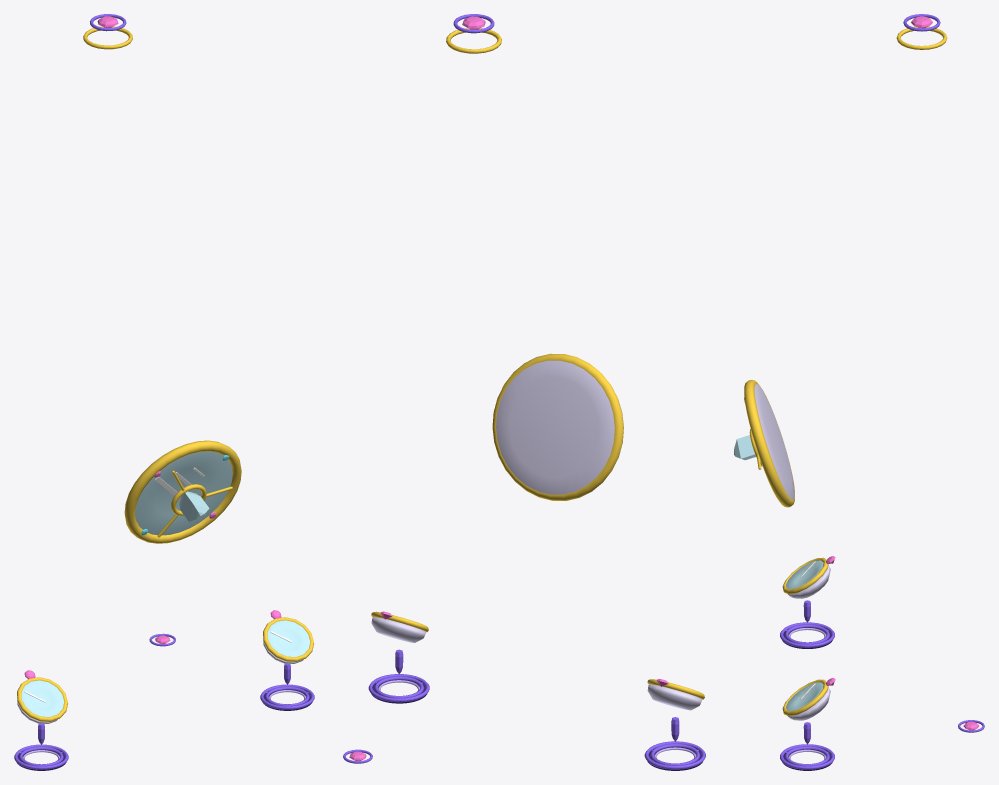
Rendered from SunMirrorTower_T4_Upgrades.fbx.
3 renders of one model, left to right at view 1: azimuth 30°, elevation 25°; view 2: azimuth 150°, elevation 25°; view 3: azimuth 270°, elevation 25°, orthographic. The views are drawn at different scales.
Visible parts, largest first — view 1: SunMirrorTowerT4U1PolishedMirror, SunMirrorTowerT4U3Tracker2, SunMirrorTowerT4U3Tracker1, SunMirrorTowerT4U5RainbowLens, SunMirrorTowerT4U5RainbowLensGlow; view 2: SunMirrorTowerT4U1PolishedMirror, SunMirrorTowerT4U3Tracker2, SunMirrorTowerT4U3Tracker1; view 3: SunMirrorTowerT4U1PolishedMirror, SunMirrorTowerT4U3Tracker2, SunMirrorTowerT4U3Tracker1, SunMirrorTowerT4U2Beacon1Glow.
Boxes of the visible parts, box(x1,y1,x2,y2) form: SunMirrorTowerT4U1PolishedMirror: box(124, 440, 241, 543); SunMirrorTowerT4U3Tracker2: box(260, 617, 314, 710); SunMirrorTowerT4U3Tracker1: box(14, 677, 68, 770); SunMirrorTowerT4U5RainbowLens: box(157, 470, 232, 537); SunMirrorTowerT4U5RainbowLensGlow: box(179, 491, 209, 521); SunMirrorTowerT4U1PolishedMirror: box(492, 353, 623, 500); SunMirrorTowerT4U3Tracker2: box(368, 611, 429, 703); SunMirrorTowerT4U3Tracker1: box(644, 679, 705, 770); SunMirrorTowerT4U1PolishedMirror: box(744, 380, 794, 507); SunMirrorTowerT4U3Tracker2: box(780, 679, 834, 770); SunMirrorTowerT4U3Tracker1: box(780, 557, 834, 648); SunMirrorTowerT4U2Beacon1Glow: box(903, 14, 940, 31).
Bounding box in the file's own units: 278 × 608 × 203.
